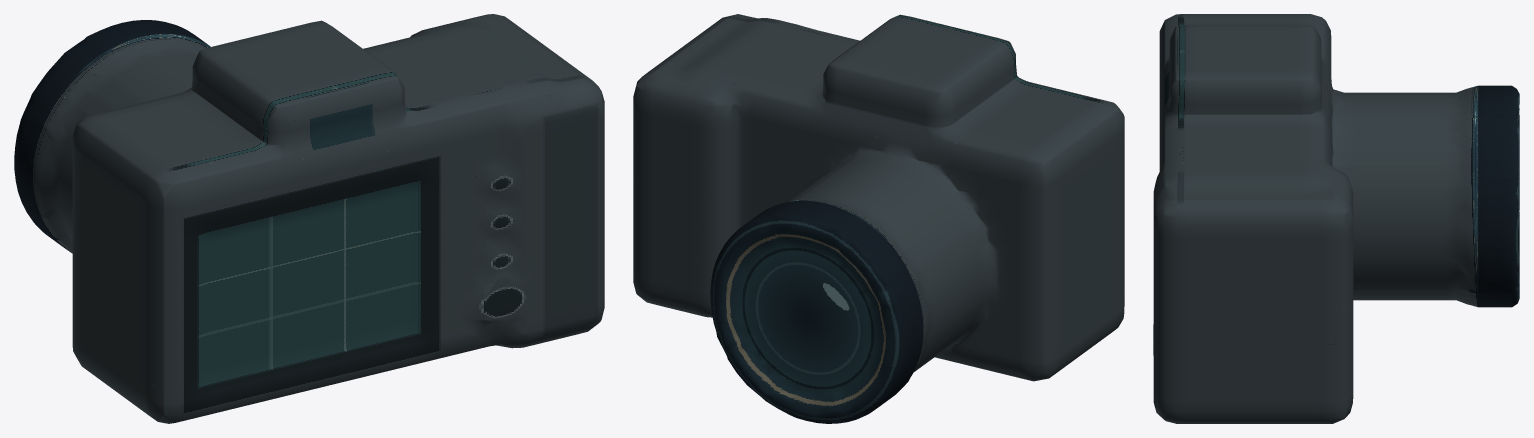
The model's file is photo-camera.glb.
3 renders of one model, left to right at view 1: azimuth 30°, elevation 25°; view 2: azimuth 150°, elevation 25°; view 3: azimuth 270°, elevation 25°, orthographic. The views are drawn at different scales.
Visible parts, largest first — view 1: Single watertight camera; view 2: Single watertight camera; view 3: Single watertight camera.
Boxes of the visible parts, <box> form: Single watertight camera: <box>14,14,604,423</box>; Single watertight camera: <box>633,14,1124,423</box>; Single watertight camera: <box>1153,14,1519,423</box>.
Bounding box in the file's own units: 0.58 × 0.37 × 0.4588.
Materials: 1 (1 with a texture image).
